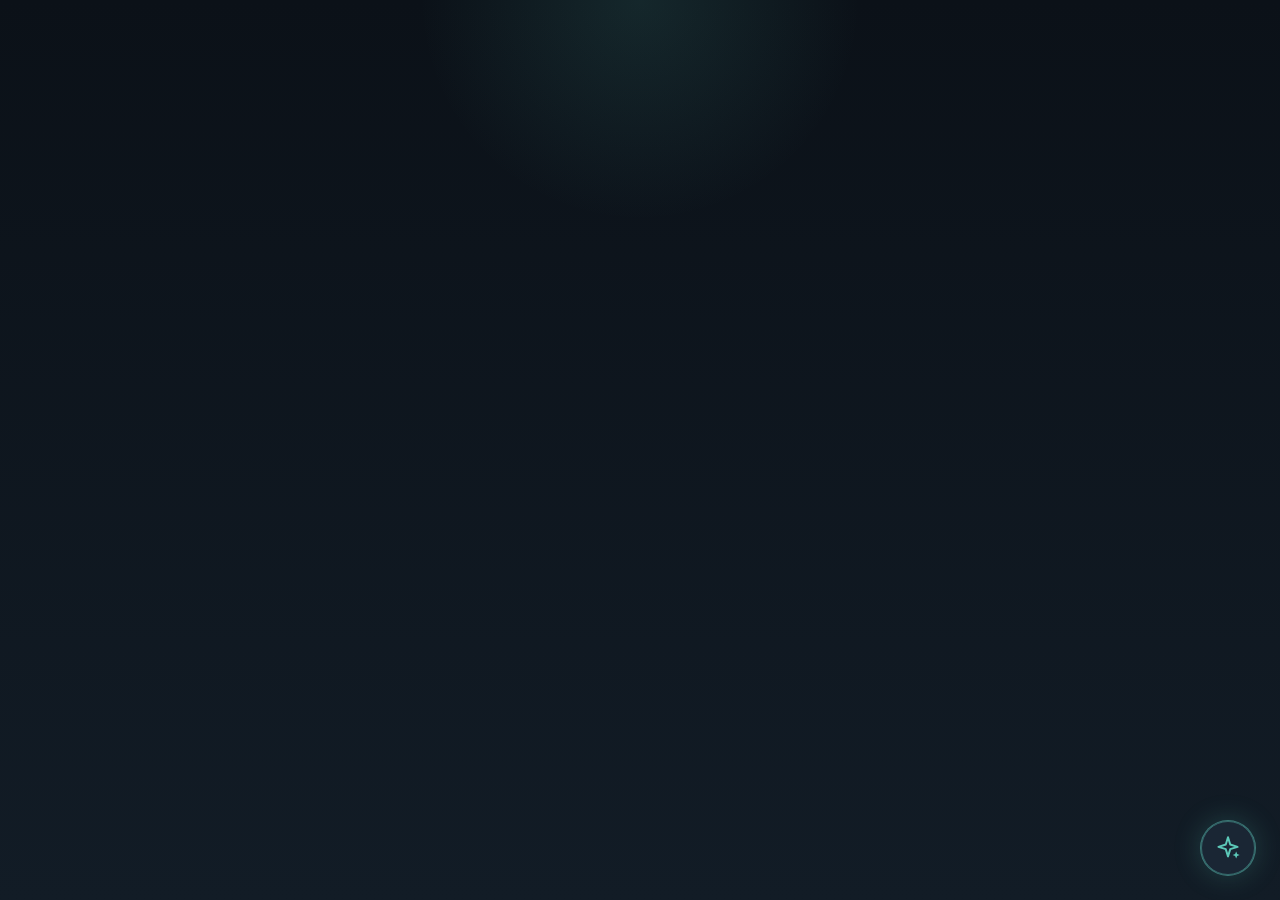
Test: ChatbotWidget › sends the conversation, shows typing feedback, and renders the AI reply
The image size is (1280, 900).
Later steps or results of the test are not shown.
Step 1. Click the button named "open e.d.i.t.h. ai assistant" → (1228, 848), box [1200,820,1256,876]
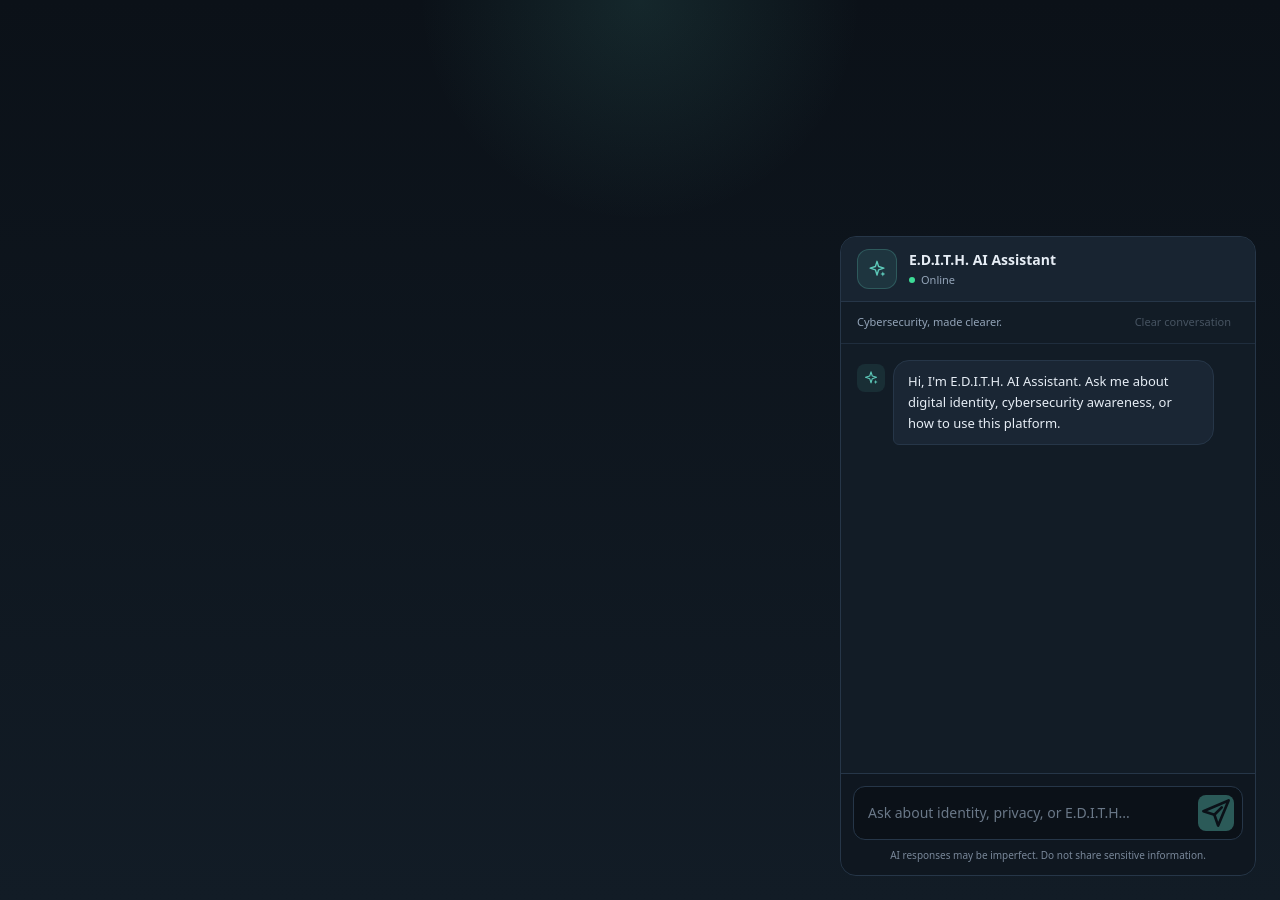
Step 2. Type "What is digital identity?" into the text box named "message e.d.i.t.h. ai assistant" → (1026, 813), box [862,795,1190,831]
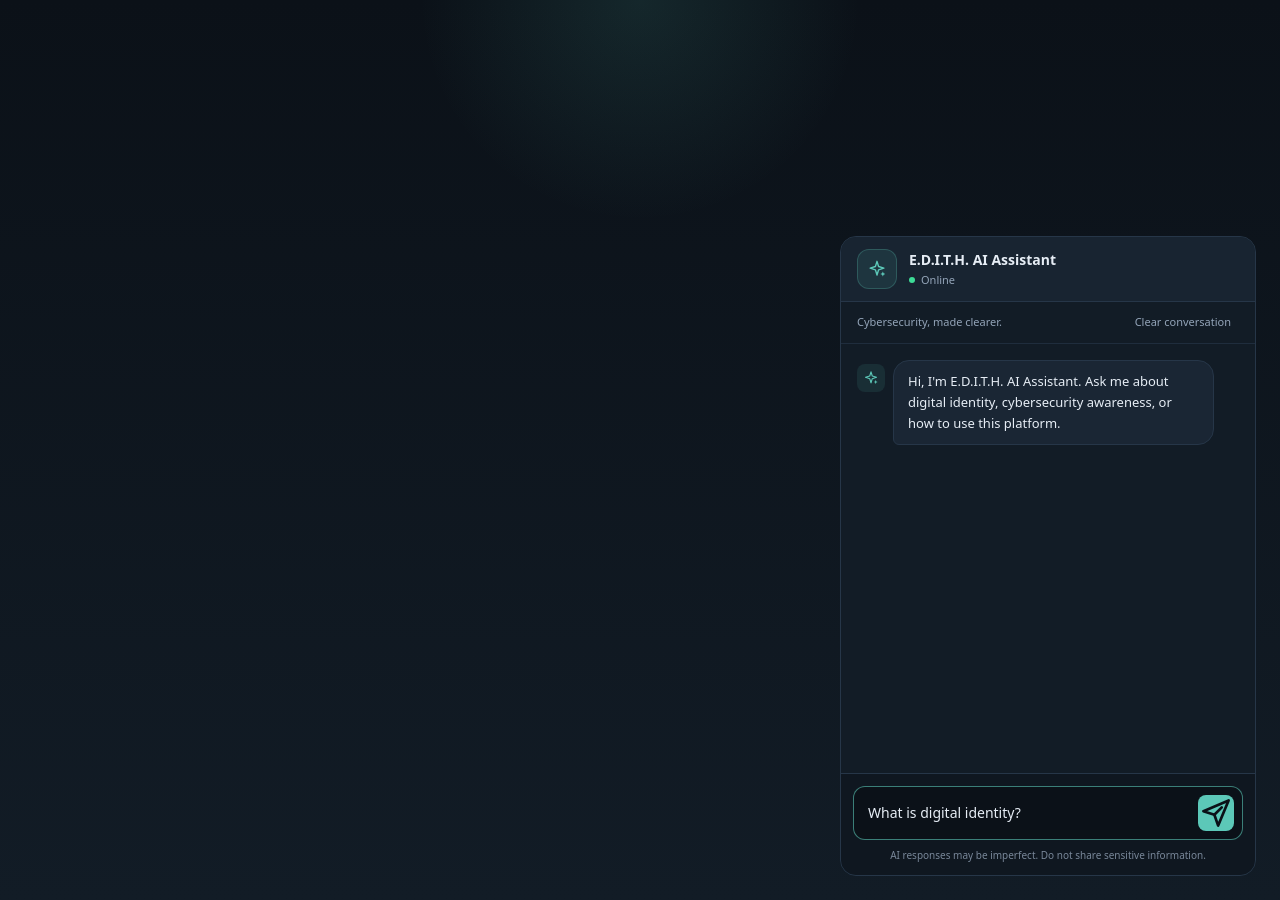
Step 3. Click the button named "send message" → (1216, 813), box [1198,795,1234,831]
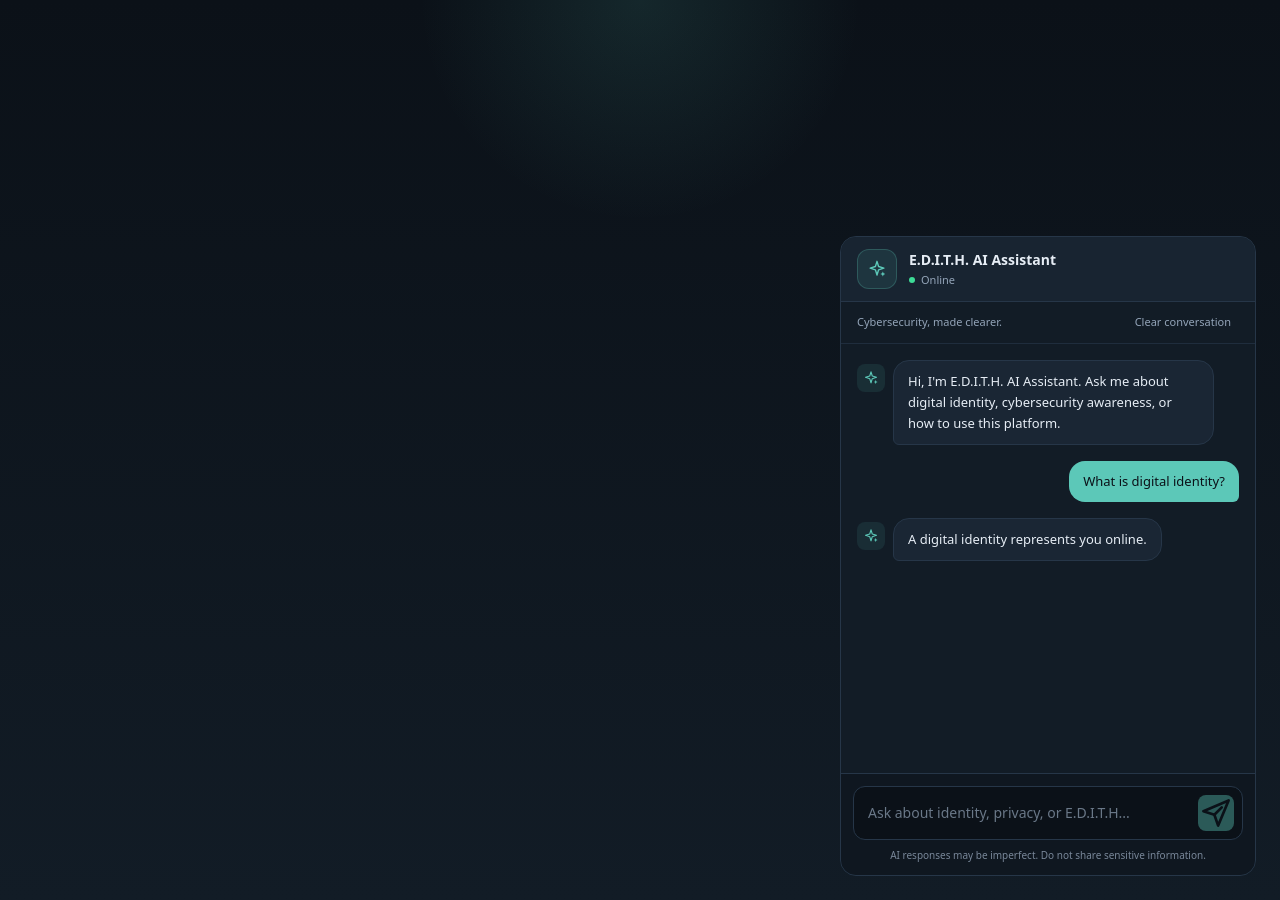
Result: the text "A digital identity represents you online." is shown at [893,518,1162,561]
